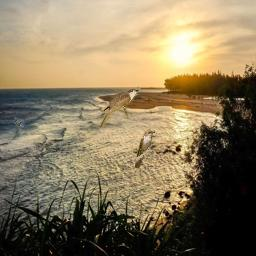Cuckoo: (100, 89, 140, 128), (135, 129, 155, 169), (14, 117, 25, 127)
